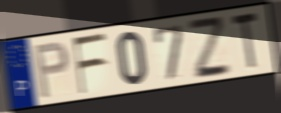0: (115, 29, 148, 87)
7: (151, 22, 184, 82)
F: (71, 31, 109, 97)
P: (32, 39, 71, 101)
T: (230, 9, 260, 73)
Z: (185, 16, 234, 81)
